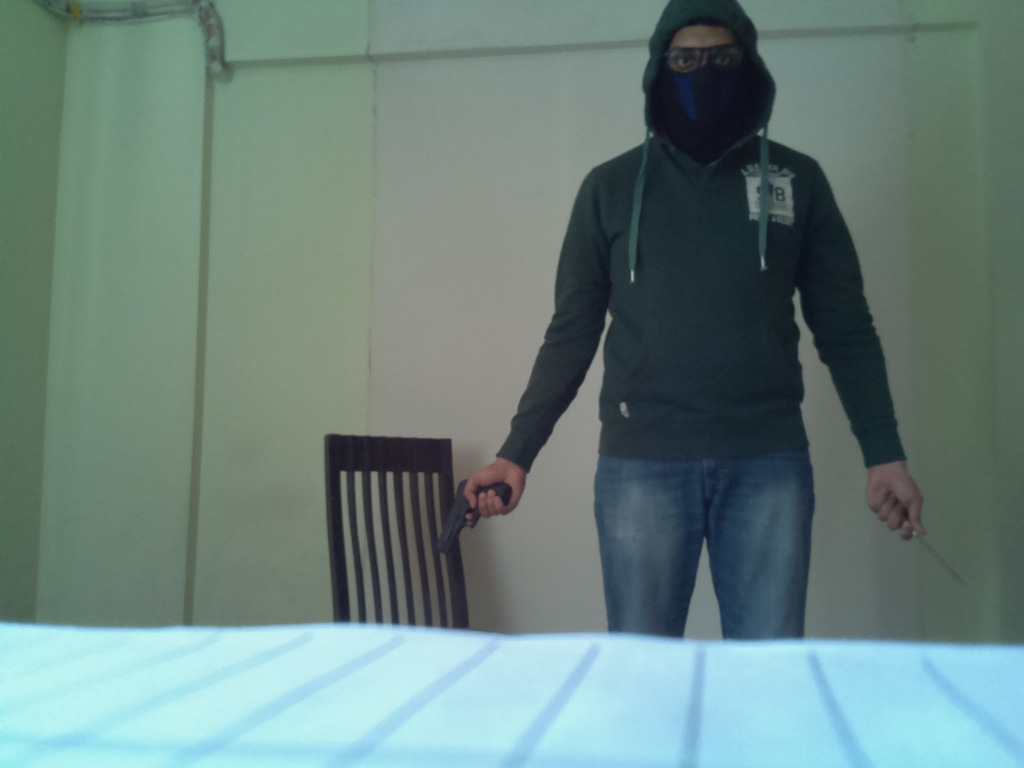gun: (438, 477, 513, 560)
